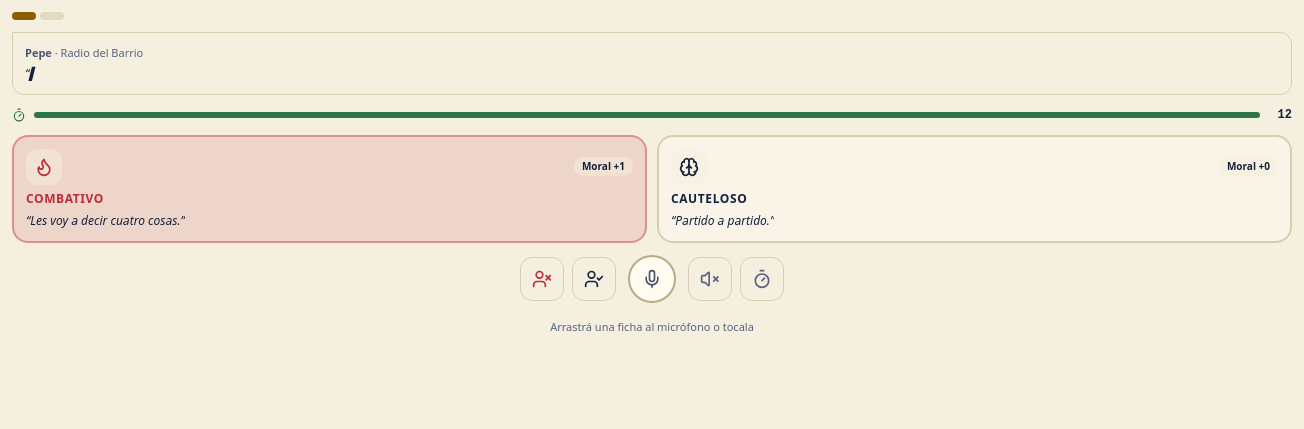
racha de reflejos › contestar al toque muestra el cartel de racha y la sala se prende
Click the button "Moral +0 Cauteloso “Partido a partido.”" at (689, 166), box [657, 134, 1292, 243]
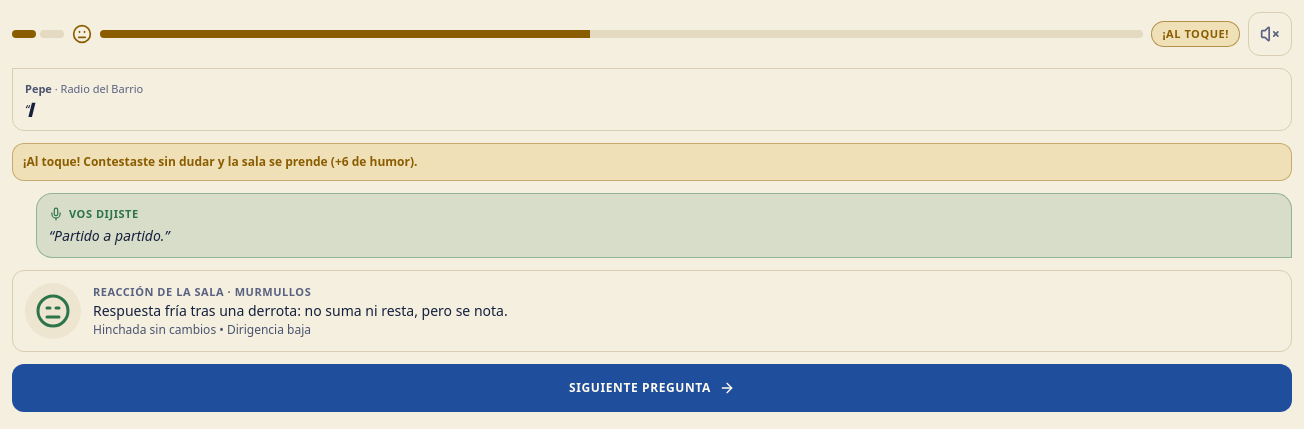
Expected: the text "Contestaste sin dudar" is shown, [80, 152, 342, 170]
Expected: the text "¡Al toque!" is shown, [1151, 21, 1240, 47]
